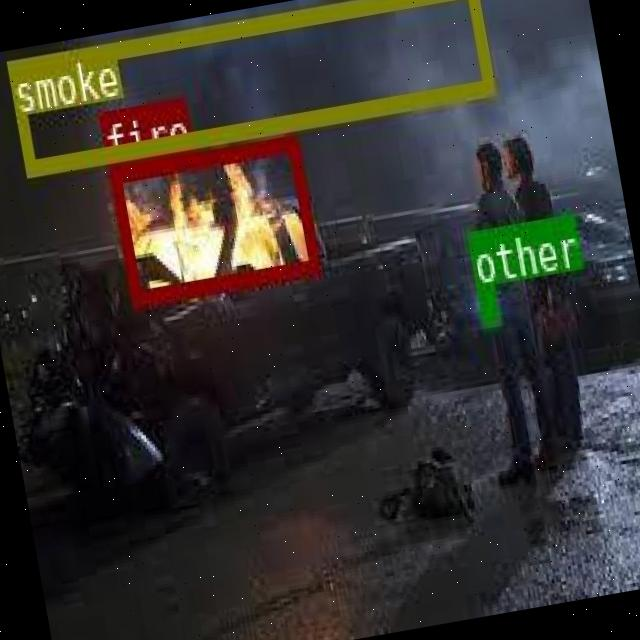fire: (106, 132, 318, 304)
smoke: (5, 0, 493, 173)
